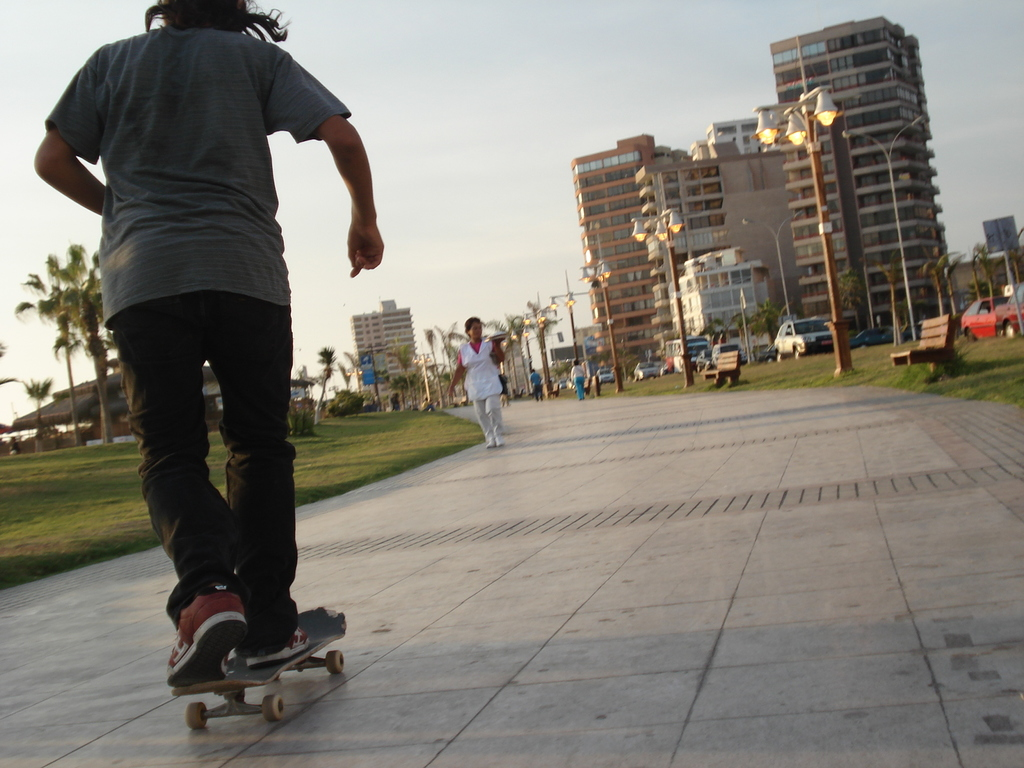Person: (33, 0, 385, 688), (444, 318, 503, 446), (570, 359, 586, 399), (530, 372, 542, 399), (498, 375, 508, 405)
